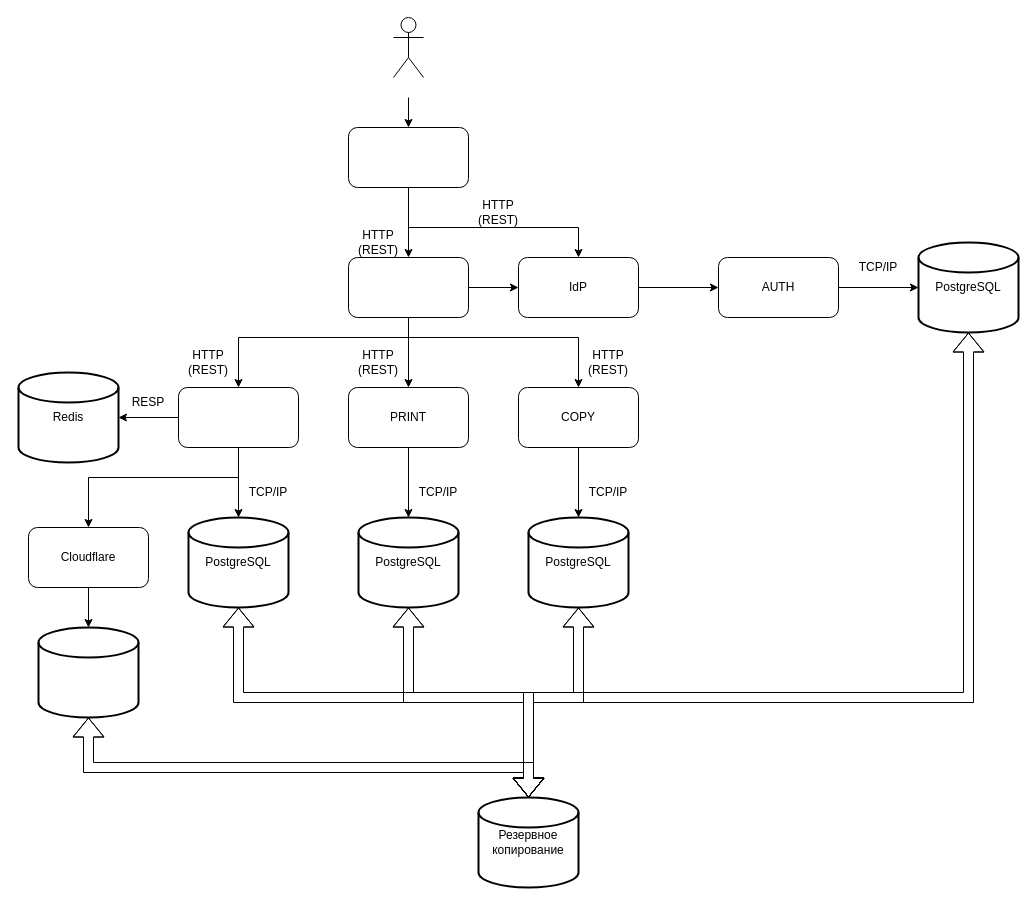
The diagram is 1036 pixels wide and 906 high, and some of its shapes have lost their labels. Here are the shapes that lost their labels. From the top down, the box of each, then its label:
(392, 16, 424, 78): Clients
(348, 126, 468, 188): Load balancer
(348, 256, 468, 318): API Gateway
(178, 386, 298, 448): DOCS
(37, 626, 139, 718): S3
